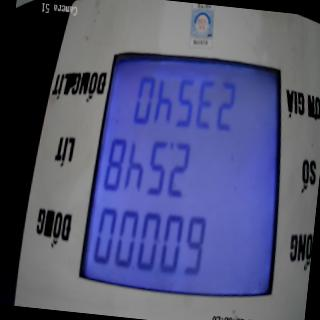screen: (74, 43, 302, 318)
